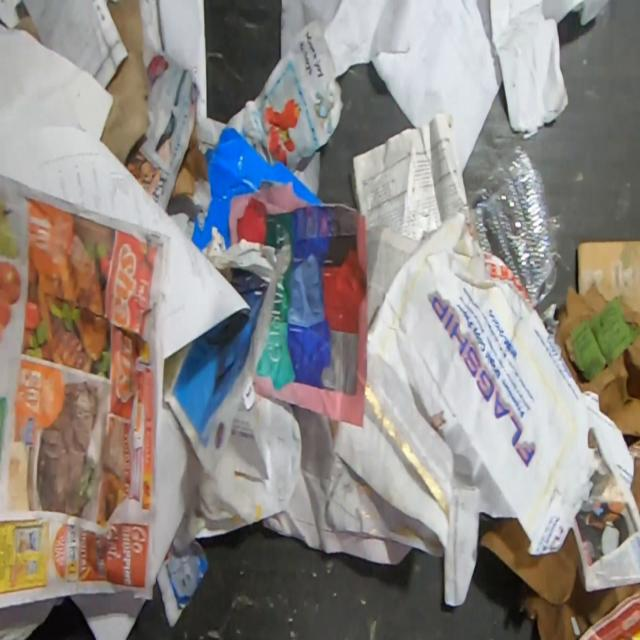cardboard: (476, 279, 640, 640), (191, 126, 324, 252), (578, 240, 639, 316), (169, 122, 207, 199)
rigid_plastic: (458, 143, 562, 308)
